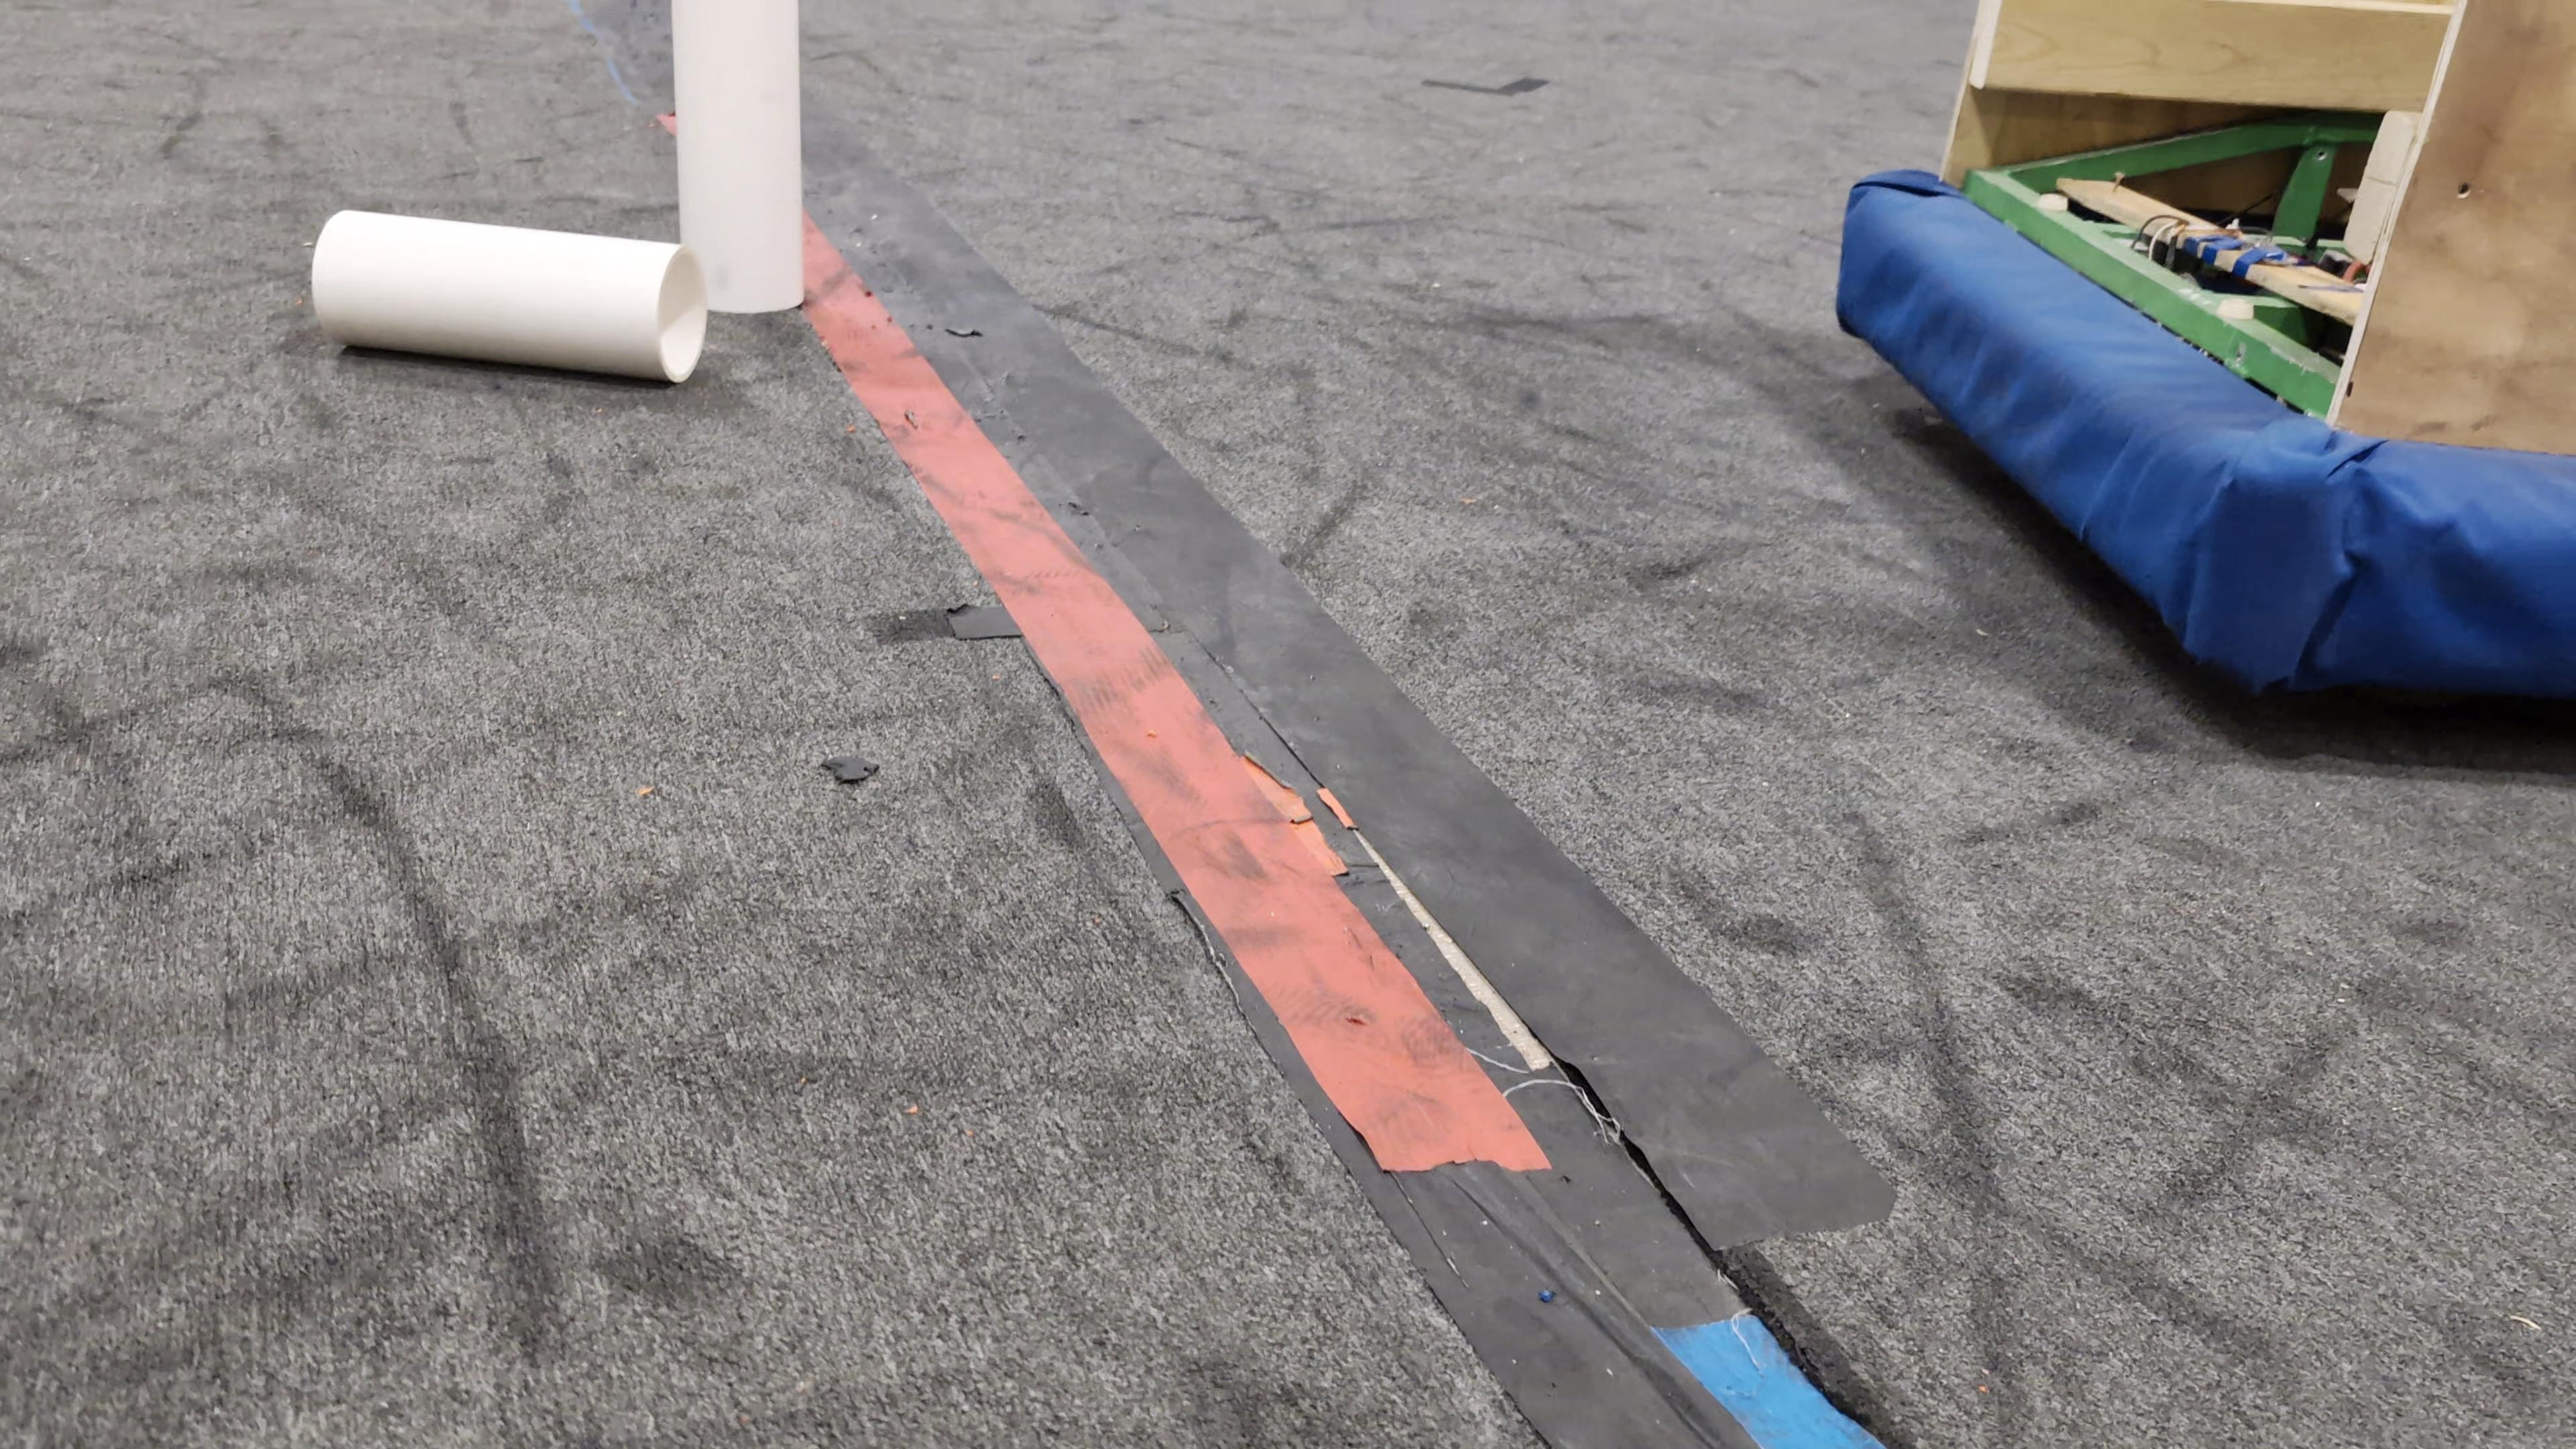coral: (311, 203, 711, 384), (671, 0, 807, 313)
